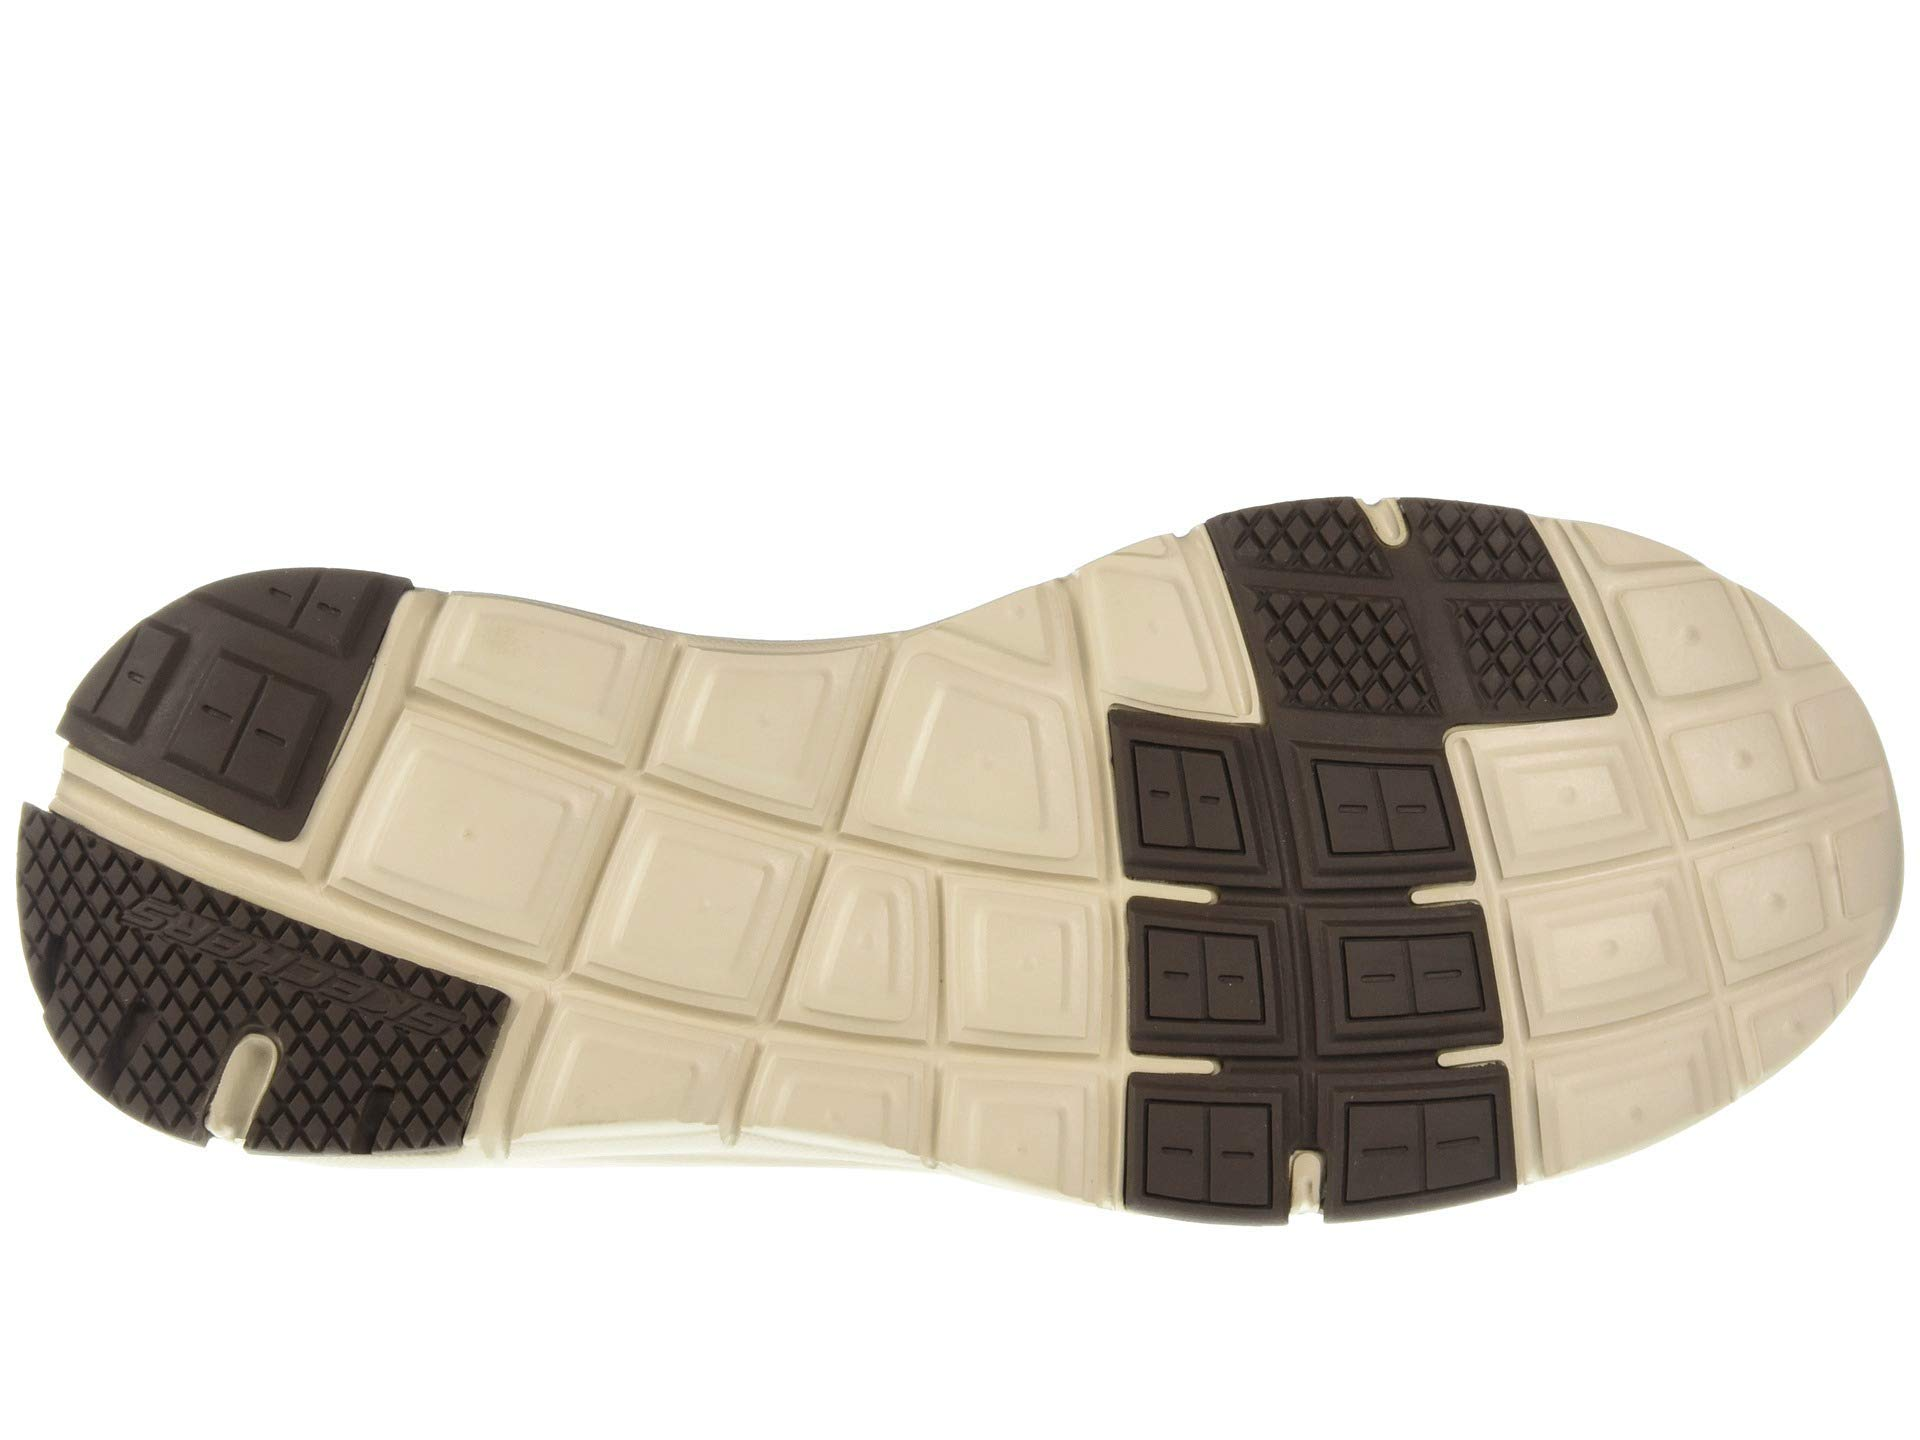circle: (599, 652, 1082, 1157), (1473, 740, 1720, 1136), (1686, 669, 1850, 1027), (1079, 557, 1228, 712)
quad: (599, 652, 1082, 1157), (74, 874, 496, 1145), (1473, 740, 1720, 1136), (525, 755, 828, 1033), (1686, 669, 1850, 1027), (373, 729, 587, 933), (1235, 511, 1420, 725), (1426, 514, 1587, 722), (169, 638, 321, 812), (1293, 744, 1465, 892), (1079, 557, 1228, 712), (1312, 923, 1504, 1041), (1123, 1086, 1282, 1227), (1324, 1086, 1513, 1204), (1126, 908, 1281, 1044), (1120, 729, 1249, 874)
text: (74, 874, 496, 1145)
